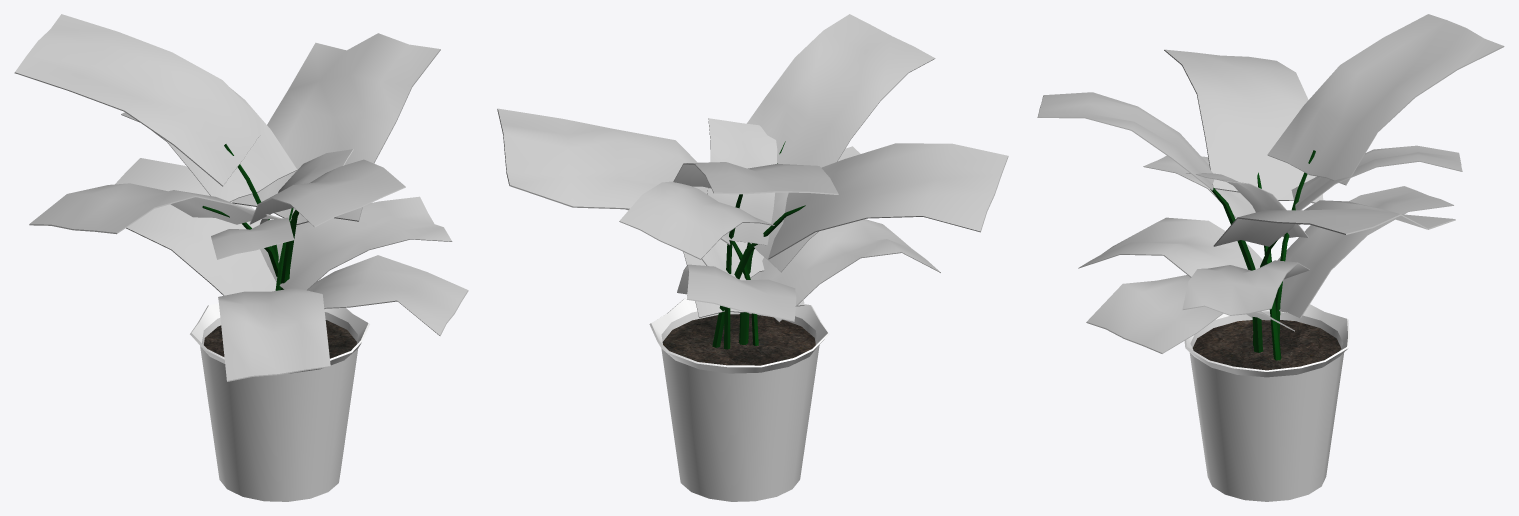
File: plant1.FBX
3 views of the same model, side by side, from view 1: azimuth 30°, elevation 25°; view 2: azimuth 150°, elevation 25°; view 3: azimuth 270°, elevation 25° (orthographic). The views are drawn at different scales.
Visible parts, largest first — view 1: Line004; view 2: Line004; view 3: Line004.
Part boxes in pixels (x1,y1,x2,y2): Line004: (14, 14, 468, 501); Line004: (497, 14, 1008, 501); Line004: (1037, 14, 1504, 501).
Bounding box in the file's own units: 0.3184 × 0.2695 × 0.2962.
